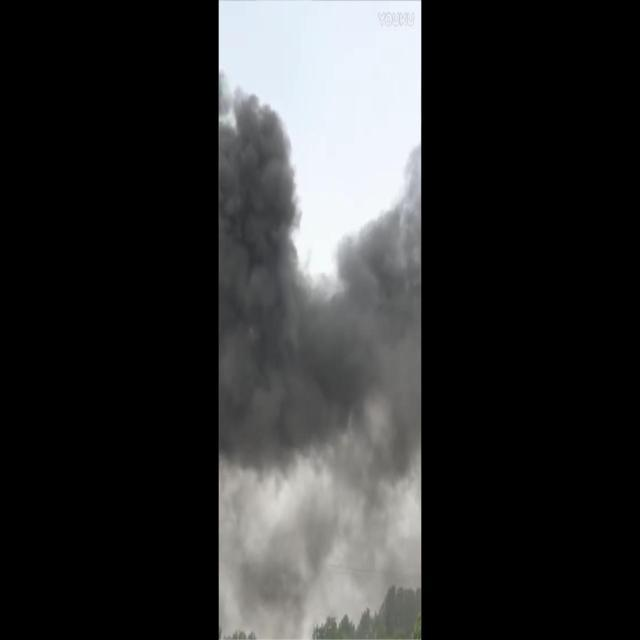Smoke: (220, 62, 420, 446), (218, 445, 420, 640)
